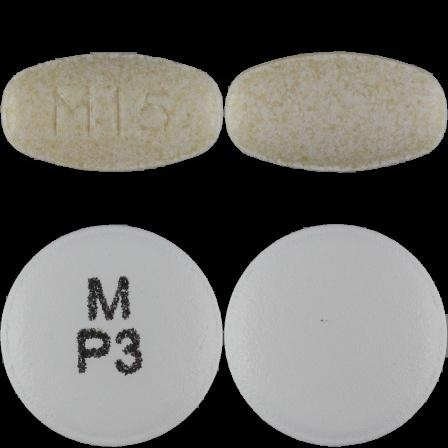54868-6176: (0, 0, 224, 224)
